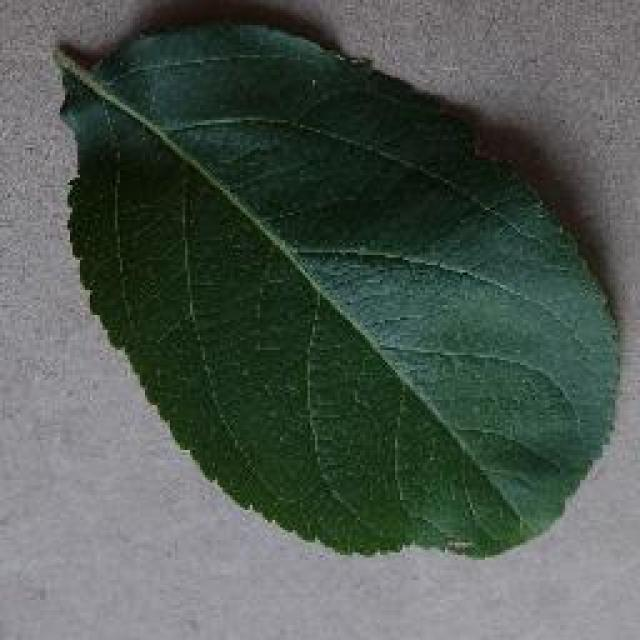apple healthy: (52, 0, 622, 560)
